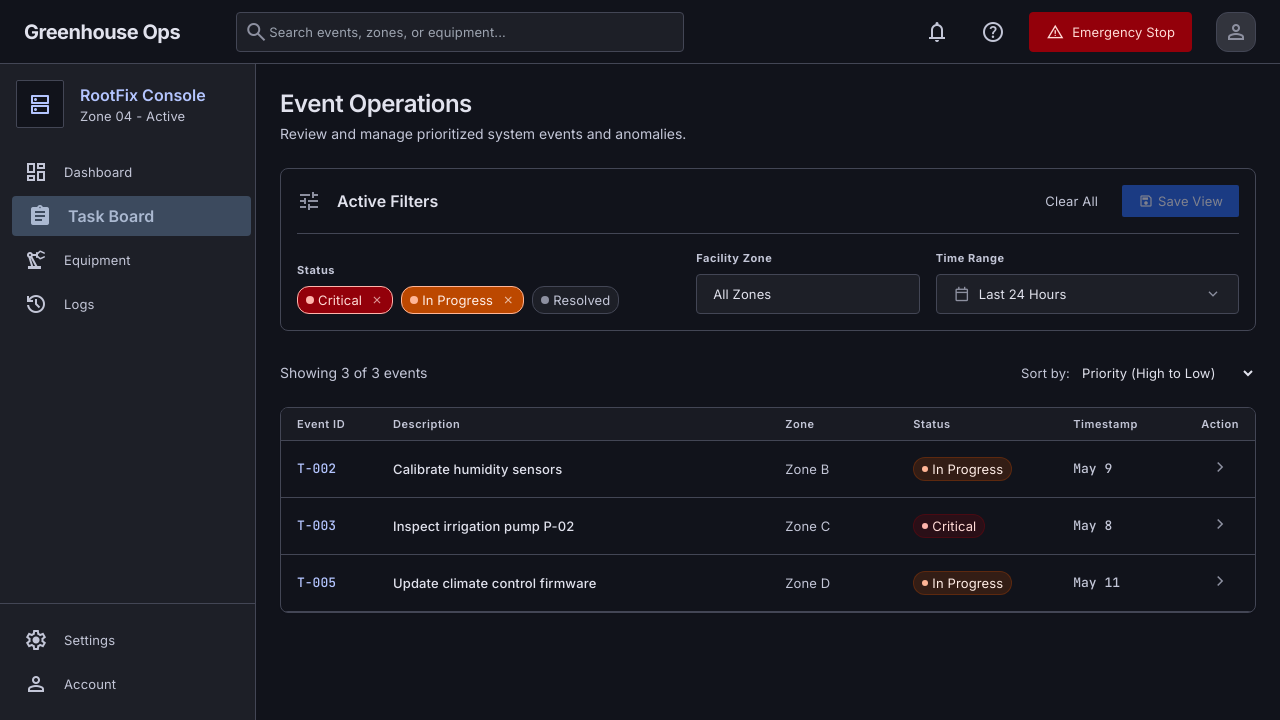
Test case: FilteredOverview screen › shows all tasks when all status filters are cleared
Click the button "Clear All": point(1072, 201) [1029,185,1114,217]
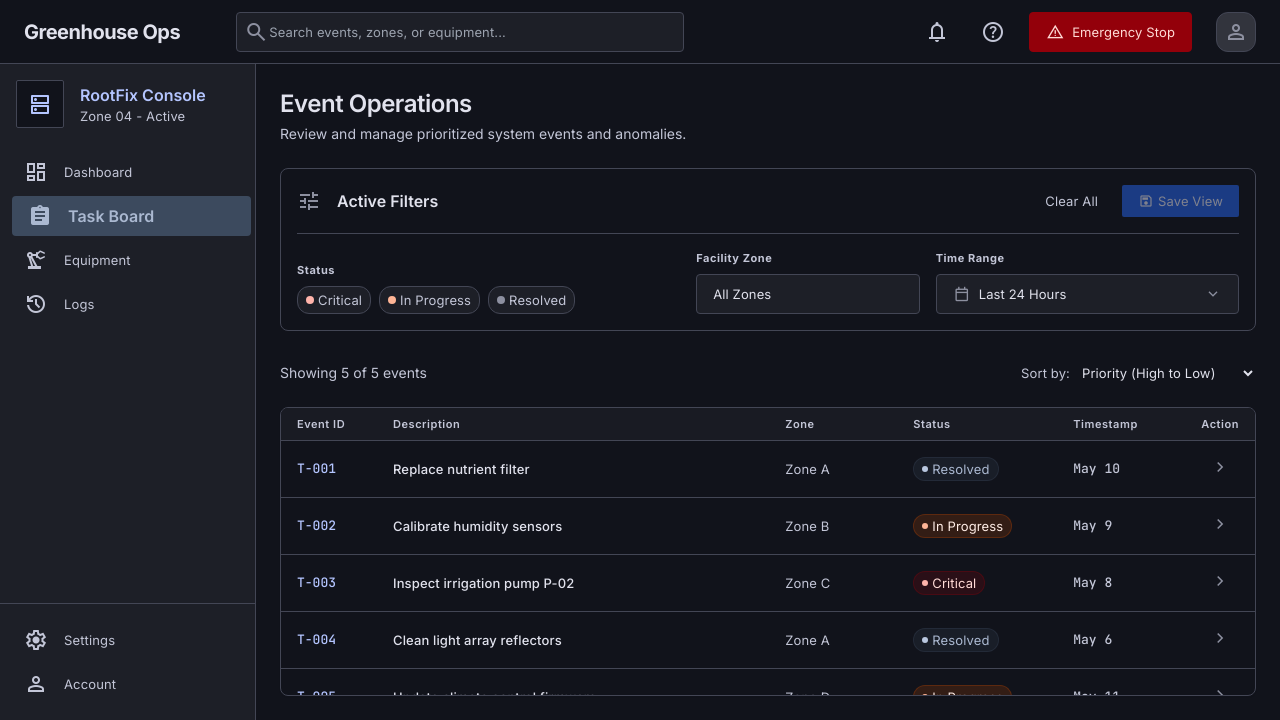
Now the text "Replace nutrient filter" is shown, box [377,440,769,498]
Now the text "Clean light array reflectors" is shown, box [377,612,769,668]
